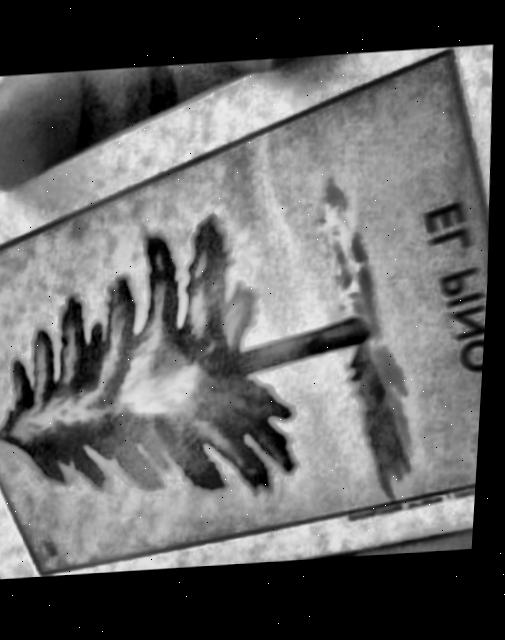El Pino: (0, 50, 491, 576)
